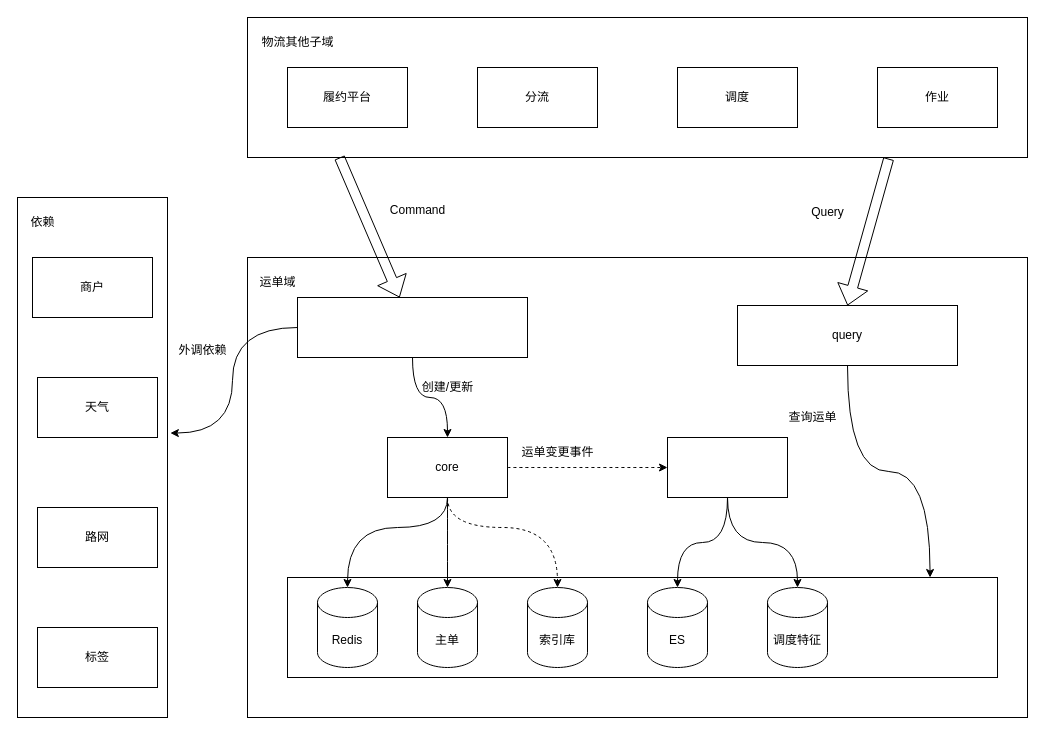
This 1045x735 diagram has some shape labels left out. Each missing label, with the box of its shape:
platform: (296, 296, 528, 358)
streaming: (666, 436, 788, 498)
